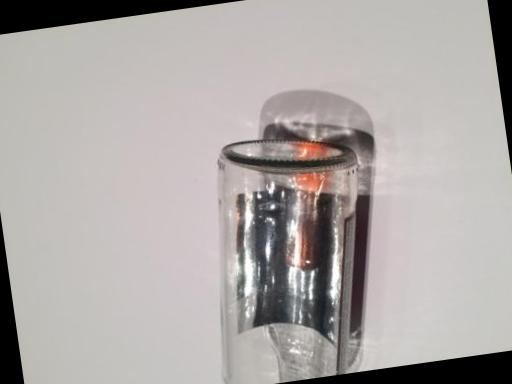glass: (156, 103, 388, 384)
